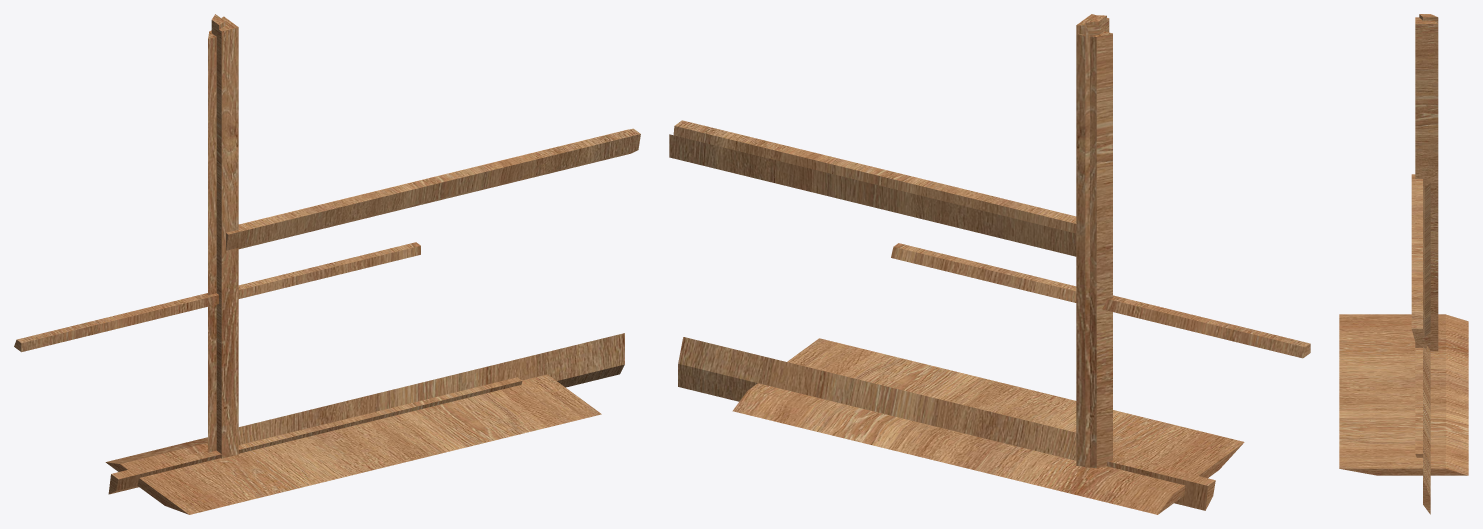
The model's file is 47154_deepcad.glb.
3 renders of one model, left to right at view 1: azimuth 30°, elevation 25°; view 2: azimuth 150°, elevation 25°; view 3: azimuth 270°, elevation 25°, orthographic. The views are drawn at different scales.
Parts seen in each view (by area): view 1: test_cmd_47154_pred; view 2: test_cmd_47154_pred; view 3: test_cmd_47154_pred.
Boxes of the visible parts, x1,y1,x2,y2 form: test_cmd_47154_pred: (14, 14, 640, 514); test_cmd_47154_pred: (669, 14, 1310, 514); test_cmd_47154_pred: (1339, 14, 1468, 514).
Size of the model in its own units: 1 by 0.7063 by 0.2378.
Materials: 1 (1 with a texture image).
